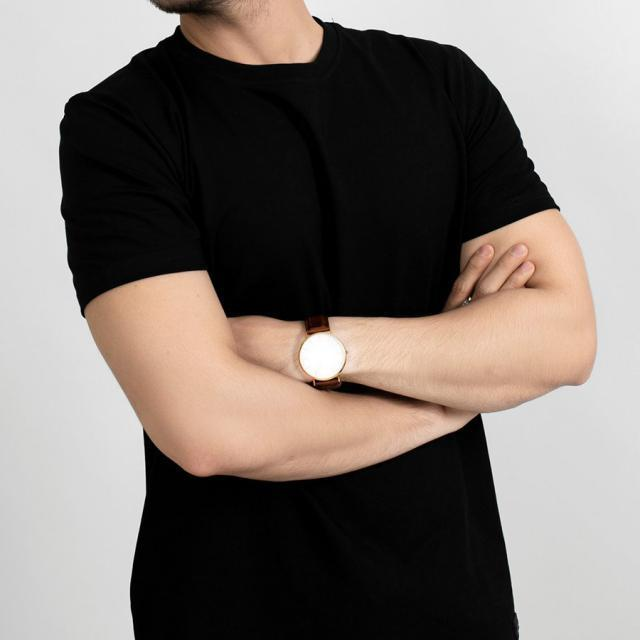short sleeve shirt: (57, 9, 561, 640)
